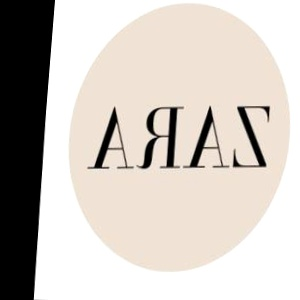zara: (252, 37, 300, 165)
